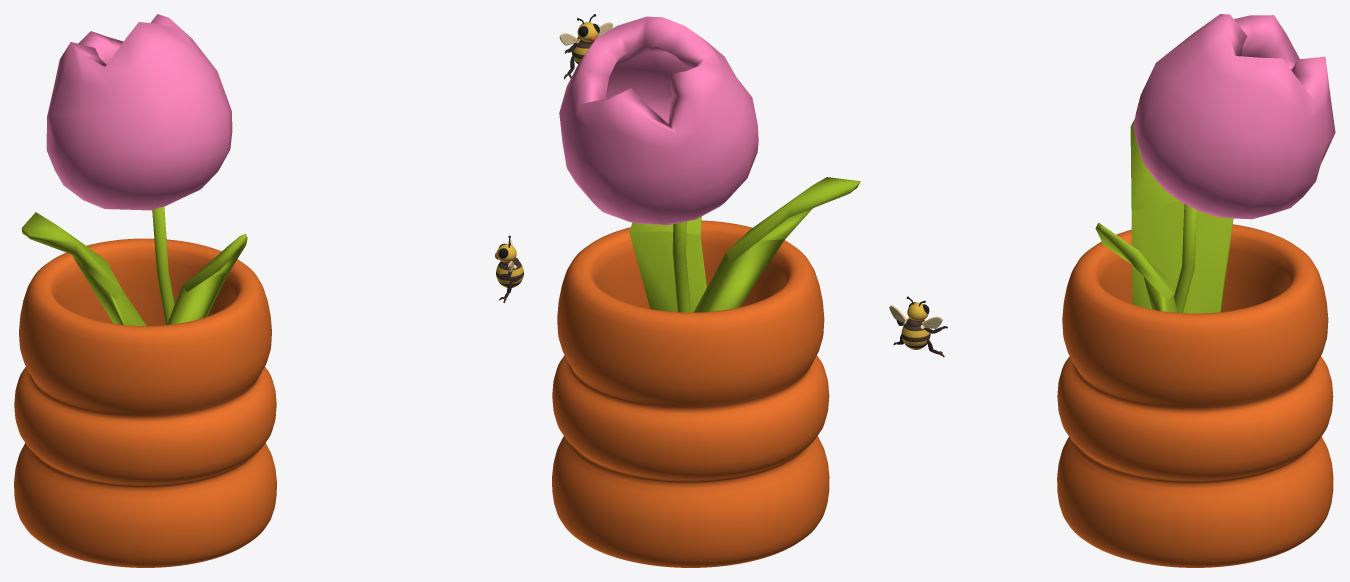
Rendered from Tulpan_Idle.glb.
The picture shows the model from 3 angles, left to right: view 1: azimuth 30°, elevation 25°; view 2: azimuth 150°, elevation 25°; view 3: azimuth 270°, elevation 25°; orthographic projection. The views are drawn at different scales.
Visible parts, largest first — view 1: Cylinder, Cylinder.001, Plane.001, Plane.002, Cylinder.002, aiprintgen_node_5a84de41-b1c0-4333-b754-5c5550f95a39; view 2: Cylinder, Cylinder.001, Plane.001, Plane.002, Cylinder.002, aiprintgen_node_5a84de41-b1c0-4333-b754-5c5550f95a39; view 3: Cylinder, Cylinder.001, Plane.001, Plane.002, aiprintgen_node_5a84de41-b1c0-4333-b754-5c5550f95a39, Cylinder.002.
Part boxes in pixels (x1,y1,x2,y2): Cylinder: (14, 238, 276, 567); Cylinder.001: (46, 14, 232, 210); Plane.001: (21, 212, 146, 325); Plane.002: (167, 233, 247, 324); Cylinder.002: (152, 206, 174, 324); aiprintgen_node_5a84de41-b1c0-4333-b754-5c5550f95a39: (495, 235, 523, 302); Cylinder: (552, 220, 829, 567); Cylinder.001: (559, 16, 758, 225); Plane.001: (693, 177, 860, 312); Plane.002: (629, 216, 706, 312); Cylinder.002: (672, 221, 690, 312); aiprintgen_node_5a84de41-b1c0-4333-b754-5c5550f95a39: (559, 14, 612, 79); Cylinder: (1057, 224, 1333, 567); Cylinder.001: (1133, 14, 1335, 219); Plane.001: (1130, 119, 1233, 313); Plane.002: (1095, 222, 1177, 312); aiprintgen_node_5a84de41-b1c0-4333-b754-5c5550f95a39: (889, 296, 947, 357); Cylinder.002: (1174, 204, 1196, 313).
Bounding box in the file's own units: 3.34 × 4.05 × 3.19.
4 materials, 1 textured.
